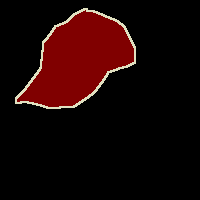hat: (16, 8, 135, 108)
